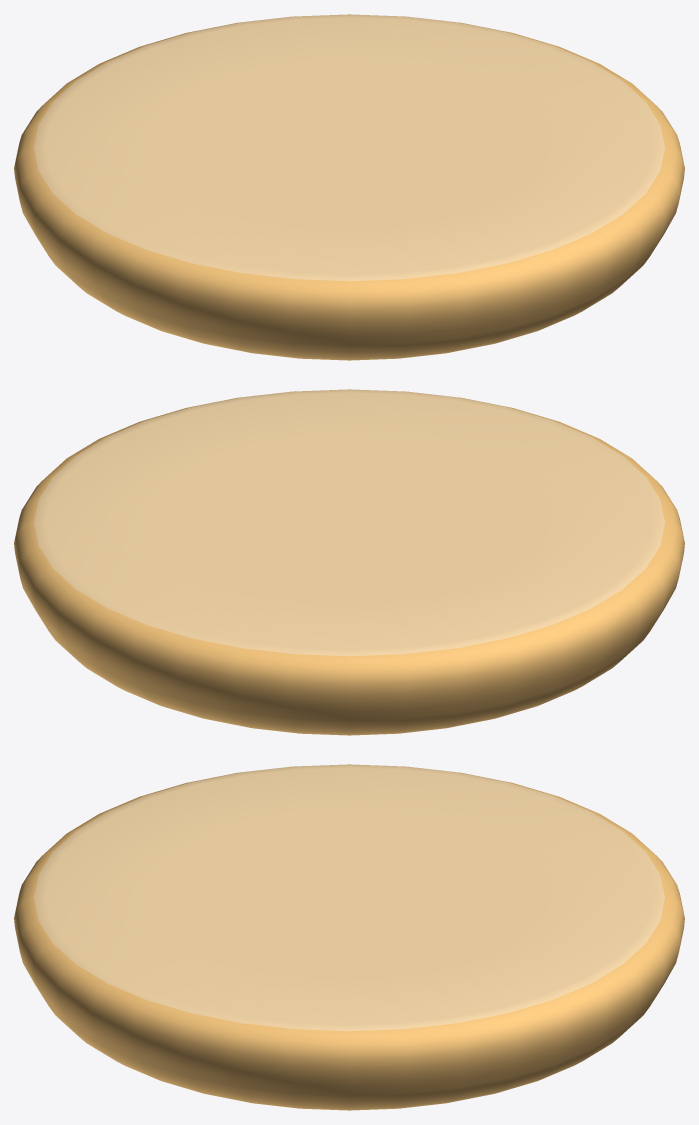
Rendered from panInferior.glb.
The picture shows the model from 3 angles, top to bottom: view 1: azimuth 30°, elevation 25°; view 2: azimuth 150°, elevation 25°; view 3: azimuth 270°, elevation 25°; orthographic projection.
Visible parts, largest first — view 1: Bottom_bun_Mat.013_0, Bottom_bun_BunColor_0; view 2: Bottom_bun_Mat.013_0, Bottom_bun_BunColor_0; view 3: Bottom_bun_Mat.013_0, Bottom_bun_BunColor_0.
Boxes of the visible parts, x1=… form: Bottom_bun_Mat.013_0: x1=34, y1=14, x2=664, y2=281; Bottom_bun_BunColor_0: x1=14, y1=14, x2=684, y2=360; Bottom_bun_Mat.013_0: x1=34, y1=389, x2=664, y2=656; Bottom_bun_BunColor_0: x1=14, y1=389, x2=684, y2=735; Bottom_bun_Mat.013_0: x1=34, y1=764, x2=664, y2=1031; Bottom_bun_BunColor_0: x1=14, y1=764, x2=684, y2=1110.
Bounding box in the file's own units: 117 × 18.45 × 117.
